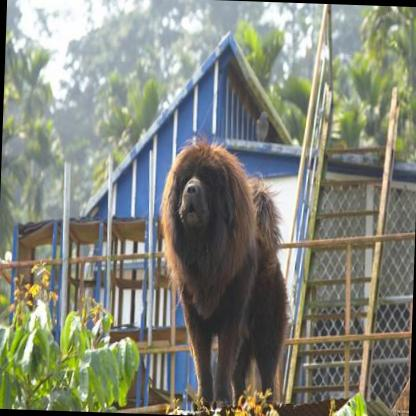Tibetan_mastiff: (151, 134, 292, 414)
